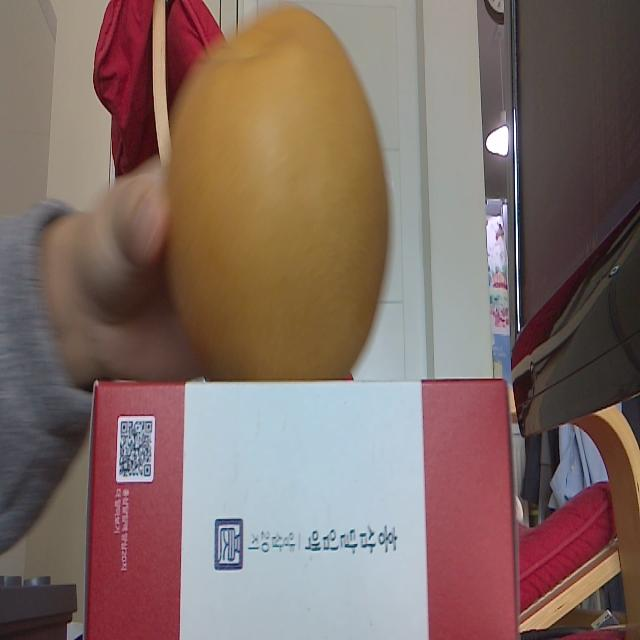pear: (160, 4, 392, 383)
